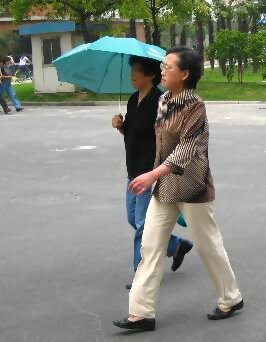person: (112, 42, 247, 328), (111, 49, 167, 290)
